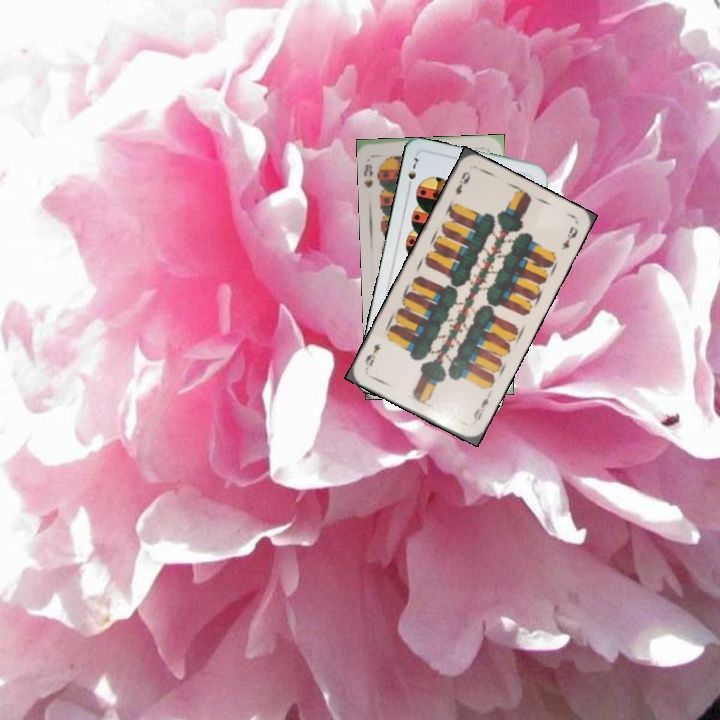E9: (469, 389, 493, 427), (451, 167, 473, 198)
S7: (404, 153, 421, 192)
S8: (360, 160, 377, 190)
